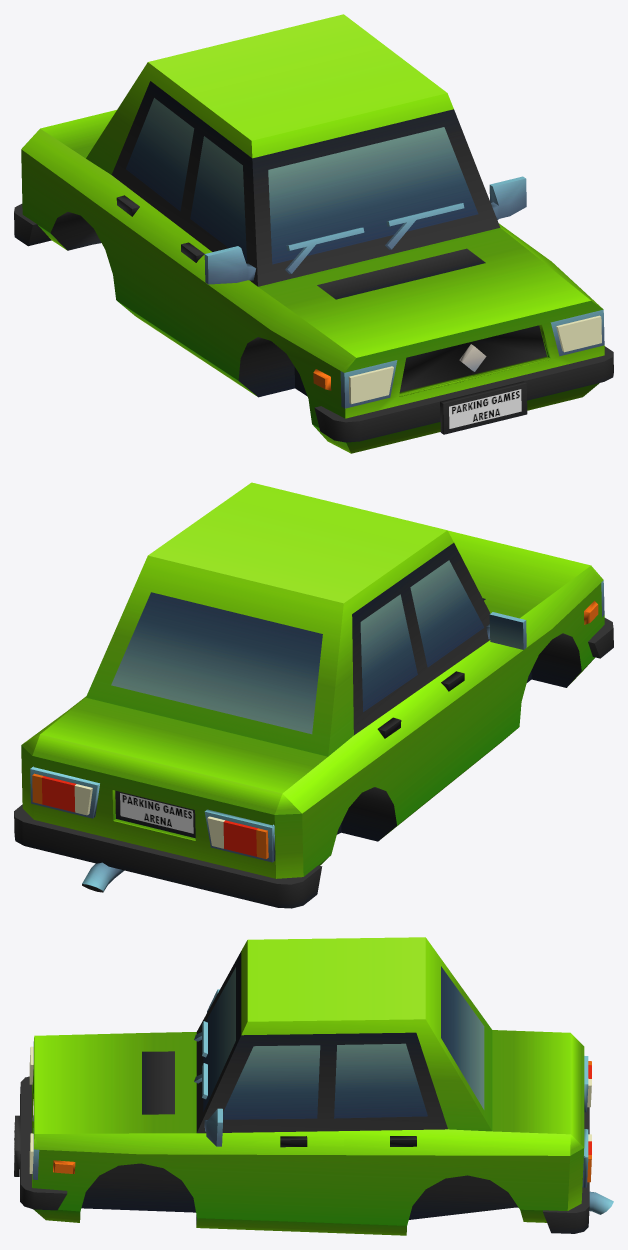
Rendered from CAR_1.fbx.
The picture shows the model from 3 angles, top to bottom: view 1: azimuth 30°, elevation 25°; view 2: azimuth 150°, elevation 25°; view 3: azimuth 270°, elevation 25°; orthographic projection. The views are drawn at different scales.
Visible parts, largest first — view 1: SHTV_Model_Car_Sedan; view 2: SHTV_Model_Car_Sedan; view 3: SHTV_Model_Car_Sedan.
Part boxes in pixels (bbox=[...]): SHTV_Model_Car_Sedan: bbox=[14, 14, 613, 453]; SHTV_Model_Car_Sedan: bbox=[14, 482, 613, 908]; SHTV_Model_Car_Sedan: bbox=[14, 937, 613, 1235].
Bounding box in the file's own units: 197 × 148 × 375.
